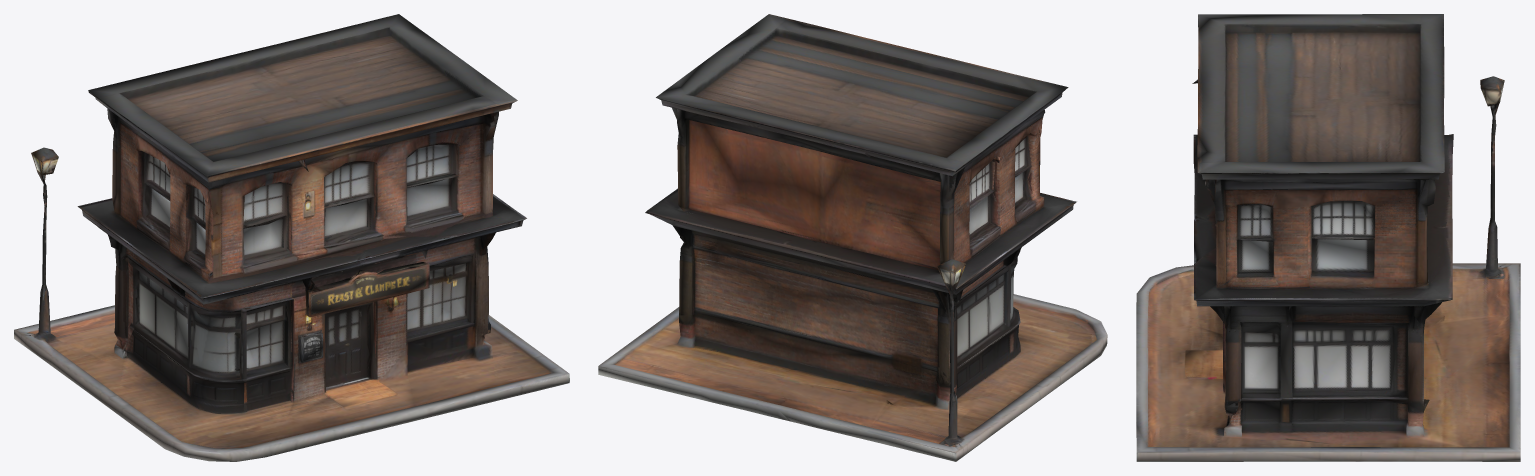
Rendered from background_building_bar.glb.
The picture shows the model from 3 angles, left to right: view 1: azimuth 30°, elevation 25°; view 2: azimuth 150°, elevation 25°; view 3: azimuth 270°, elevation 25°; orthographic projection. The views are drawn at different scales.
Size of the model in its own units: 2 by 1.37 by 1.72.
1 material, 1 textured.
